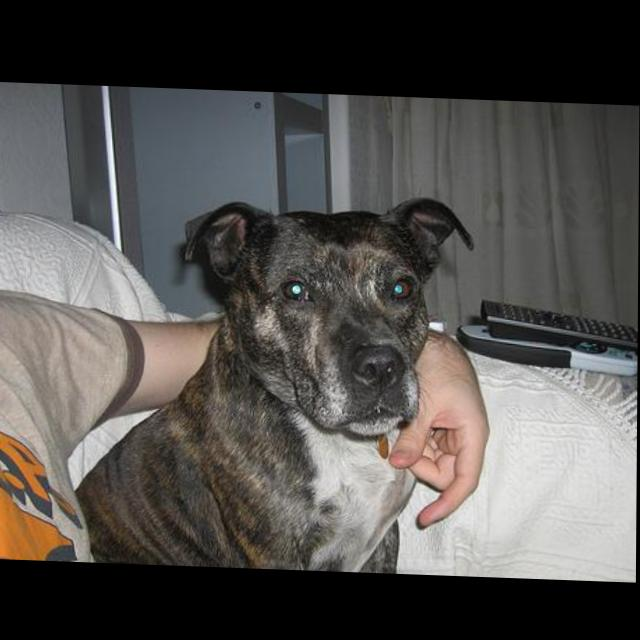staffford: (74, 182, 477, 574)
